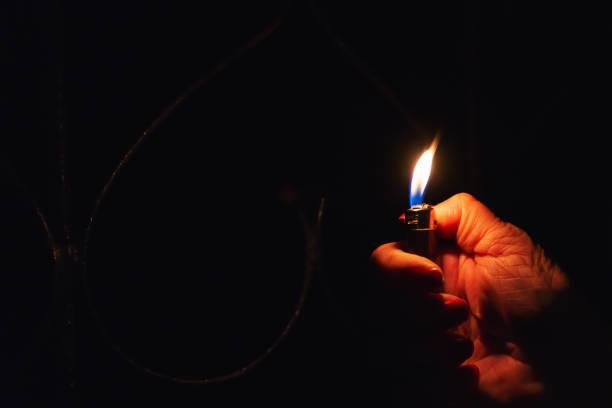Fire: (408, 136, 430, 204)
